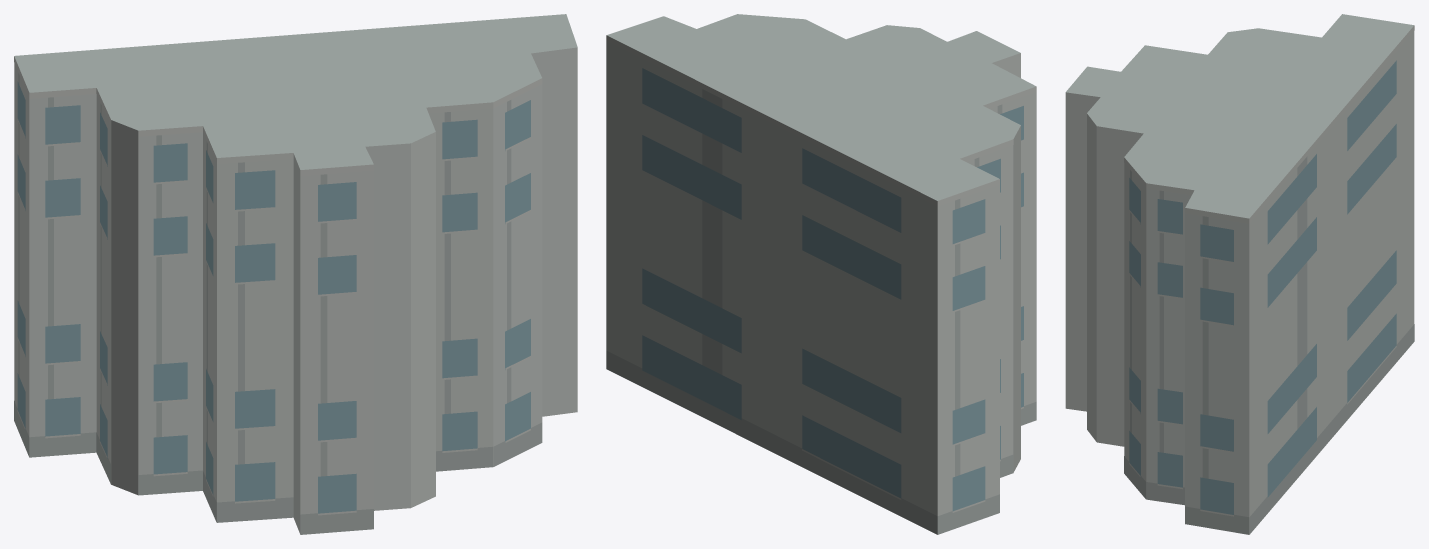
Rendered from survey-upis-32852041.glb.
3 views of the same model, side by side, from view 1: azimuth 30°, elevation 25°; view 2: azimuth 150°, elevation 25°; view 3: azimuth 270°, elevation 25° (orthographic). The views are drawn at different scales.
Visible parts, largest first — view 1: survey-upis-32852041.tmp; view 2: survey-upis-32852041.tmp; view 3: survey-upis-32852041.tmp.
Boxes of the visible parts, bbox=[...] form: survey-upis-32852041.tmp: bbox=[14, 14, 577, 534]; survey-upis-32852041.tmp: bbox=[606, 14, 1036, 534]; survey-upis-32852041.tmp: bbox=[1065, 14, 1414, 534].
Size of the model in its own units: 19.98 by 14.4 by 14.41.
